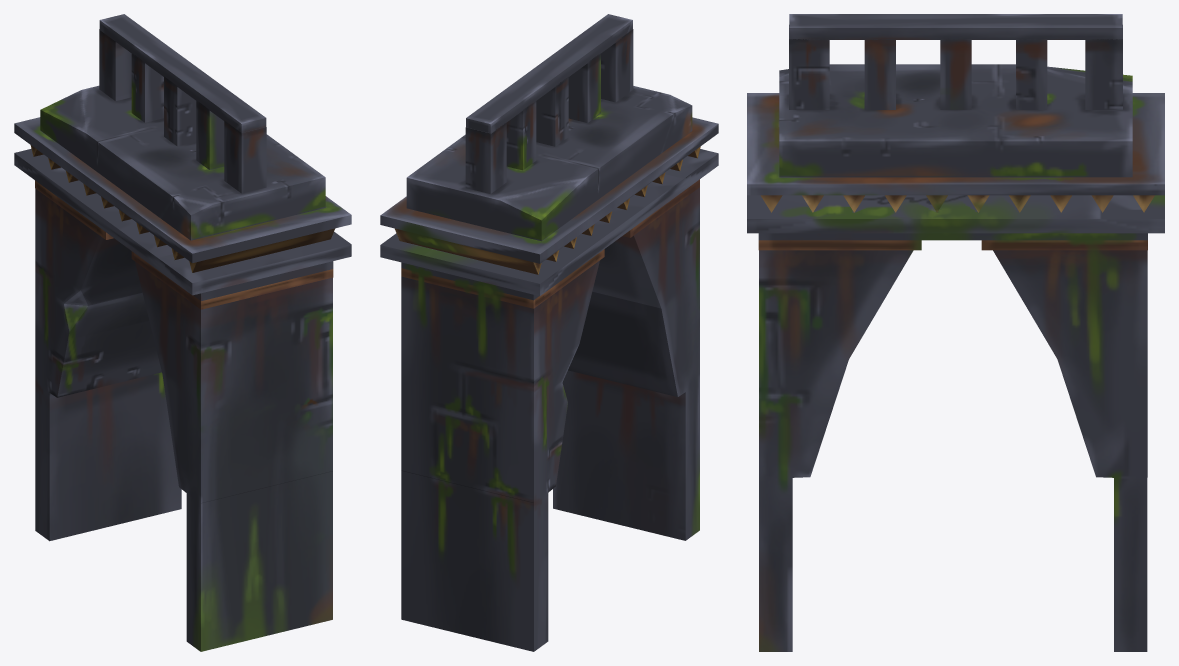
File: RuinArch.fbx
3 renders of one model, left to right at view 1: azimuth 30°, elevation 25°; view 2: azimuth 150°, elevation 25°; view 3: azimuth 270°, elevation 25°, orthographic. The views are drawn at different scales.
Parts seen in each view (by area): view 1: Arch_Ruin; view 2: Arch_Ruin; view 3: Arch_Ruin.
Part boxes in pixels (bbox=[...]): Arch_Ruin: bbox=[14, 14, 351, 651]; Arch_Ruin: bbox=[380, 14, 718, 651]; Arch_Ruin: bbox=[747, 14, 1164, 651].
Bounding box in the file's own units: 130 × 393 × 251.
